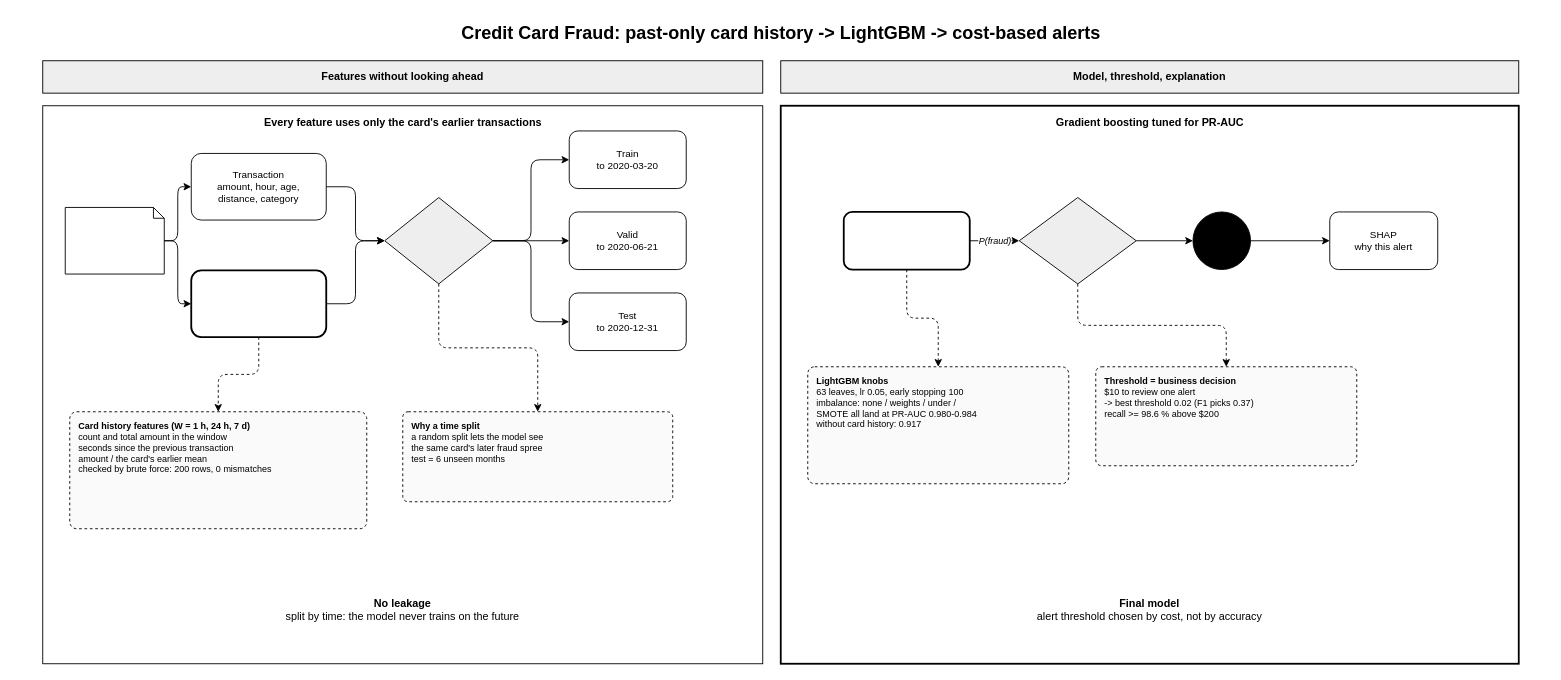
This 1561x680 diagram has some shape labels left out. The shapes that lost their labels are listed below. From the top down, each one's centre as x and y in pixels, then its label:
[114,240]: 1.85 M transactions 0.5 % fraud
[438,240]: time split
[906,240]: LightGBM Optuna, 40 trials
[1077,240]: cost-based threshold
[1221,240]: alert
[258,303]: Card history window [t - W, t)
